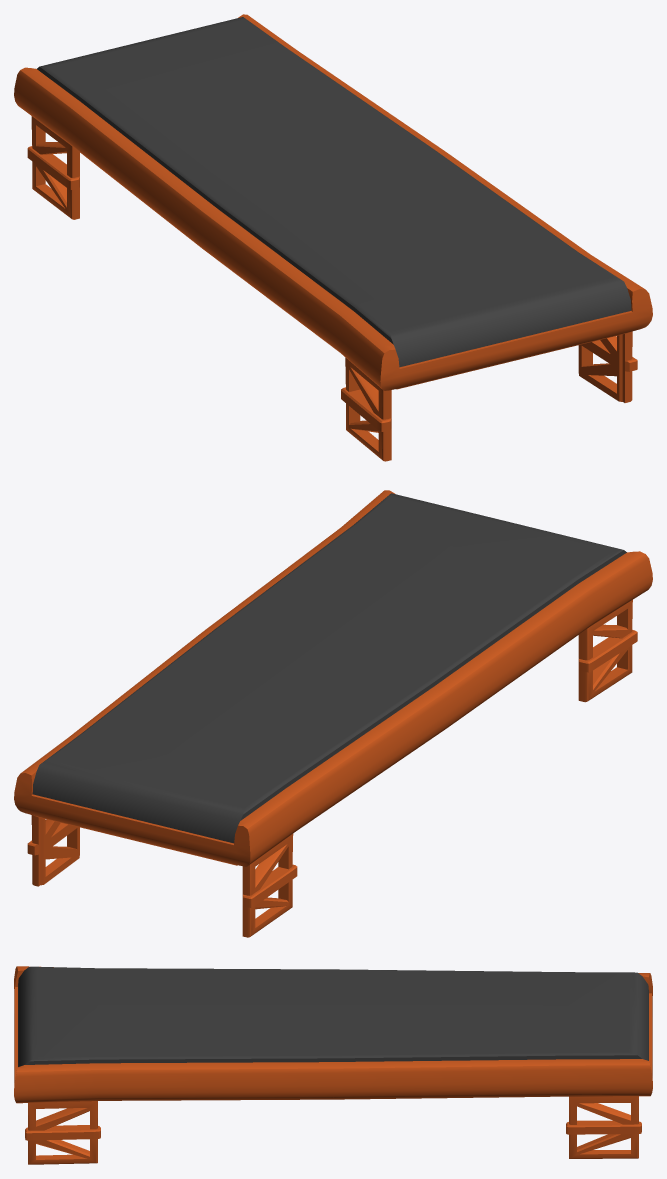
File: MODEL_ENV_ConveyorStraight.fbx
The picture shows the model from 3 angles, top to bottom: view 1: azimuth 30°, elevation 25°; view 2: azimuth 150°, elevation 25°; view 3: azimuth 270°, elevation 25°; orthographic projection. The views are drawn at different scales.
Visible parts, largest first — view 1: Conveyor_Straight; view 2: Conveyor_Straight; view 3: Conveyor_Straight.
Boxes of the visible parts, left/top/right/bottom form: Conveyor_Straight: left=14, top=14, right=652, bottom=461; Conveyor_Straight: left=14, top=490, right=652, bottom=937; Conveyor_Straight: left=14, top=966, right=652, bottom=1164.
Bounding box in the file's own units: 3.87 × 1.67 × 9.45.
